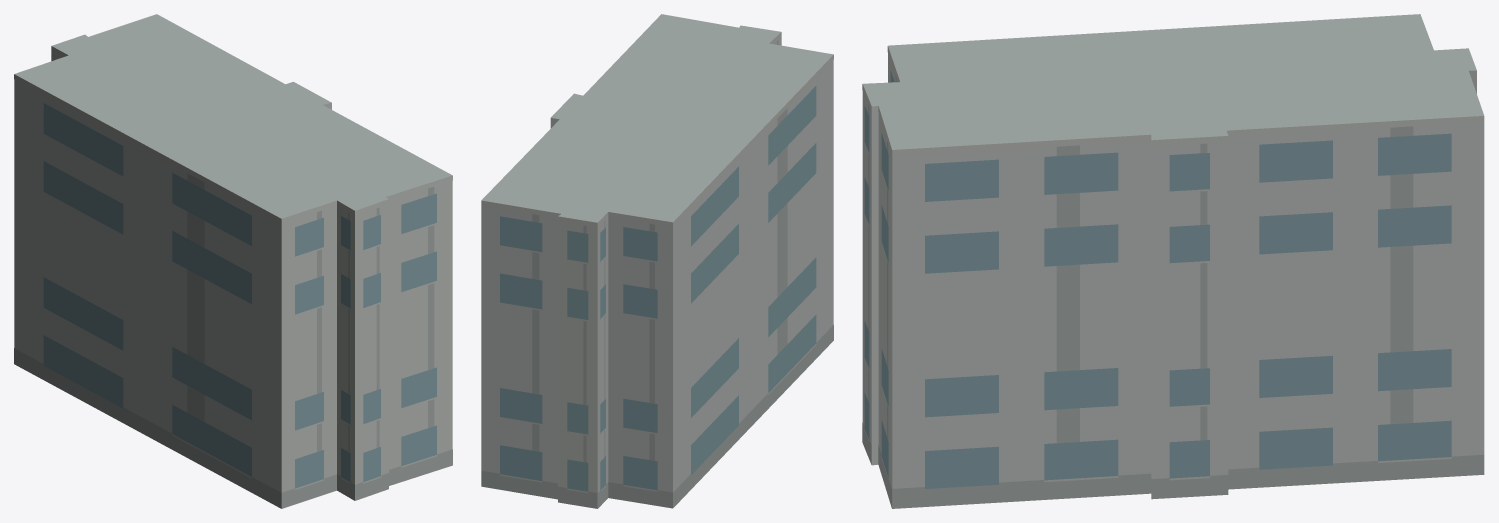
The model's file is survey-upis-32721239.glb.
The picture shows the model from 3 angles, left to right: view 1: azimuth 30°, elevation 25°; view 2: azimuth 150°, elevation 25°; view 3: azimuth 270°, elevation 25°; orthographic projection. The views are drawn at different scales.
Visible parts, largest first — view 1: survey-upis-32721239.tmp; view 2: survey-upis-32721239.tmp; view 3: survey-upis-32721239.tmp.
Part boxes in pixels (left/top/right/bottom): survey-upis-32721239.tmp: left=14, top=14, right=452, bottom=508; survey-upis-32721239.tmp: left=481, top=14, right=833, bottom=508; survey-upis-32721239.tmp: left=862, top=14, right=1484, bottom=508.
Bounding box in the file's own units: 11.08 × 13.62 × 21.4.
